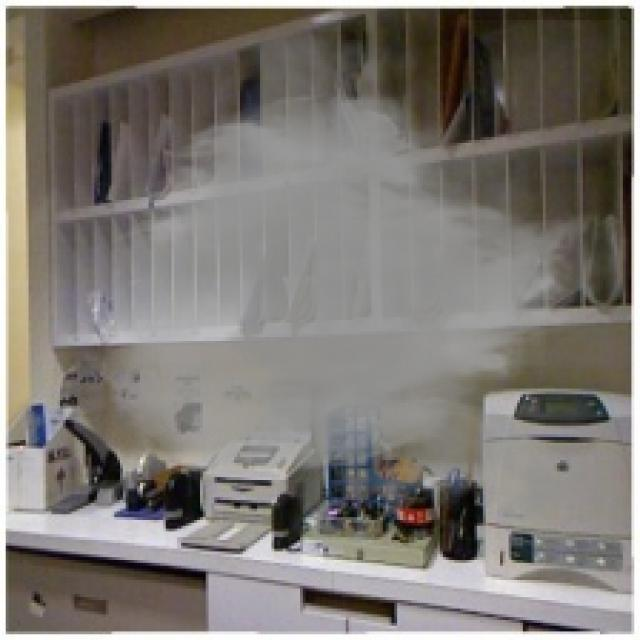Smoke: (97, 20, 629, 540)
